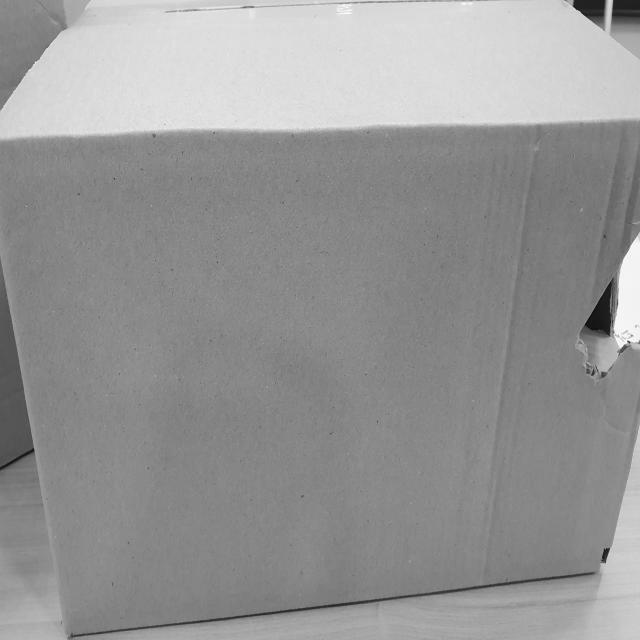hole: (588, 203, 640, 347)
